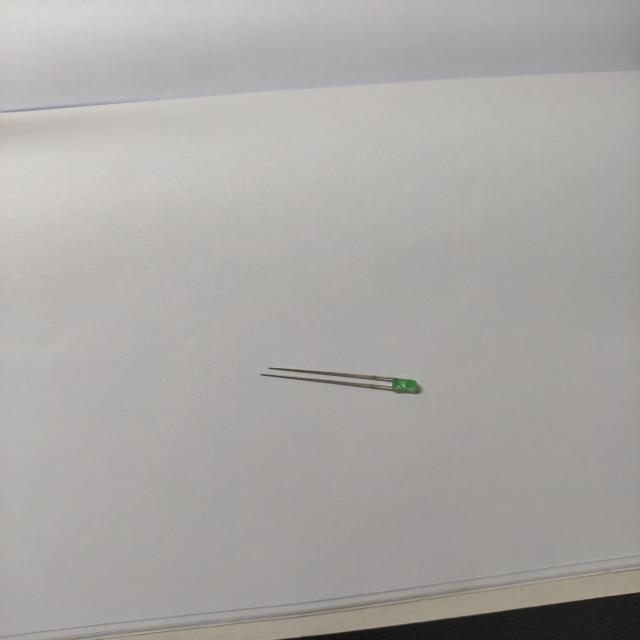led: (254, 357, 448, 407)
